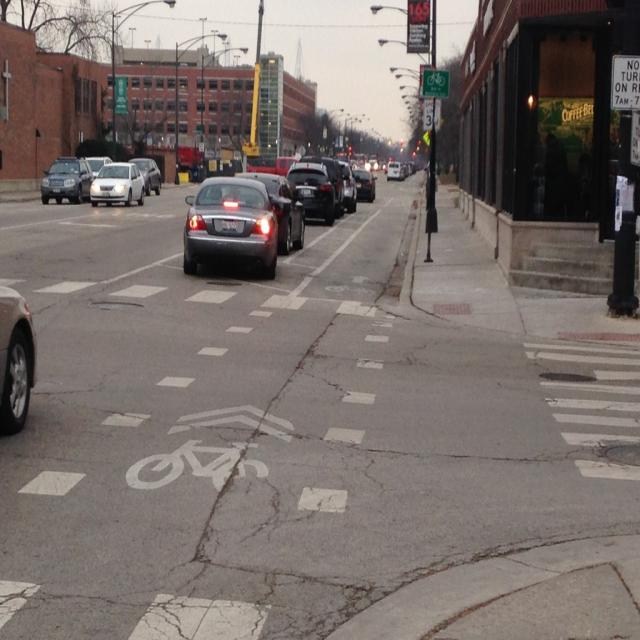Passenger Car: (180, 178, 276, 281), (274, 174, 304, 258), (90, 163, 141, 211), (40, 156, 88, 205)
Sport-Utility-Vehicle: (288, 159, 338, 228)
